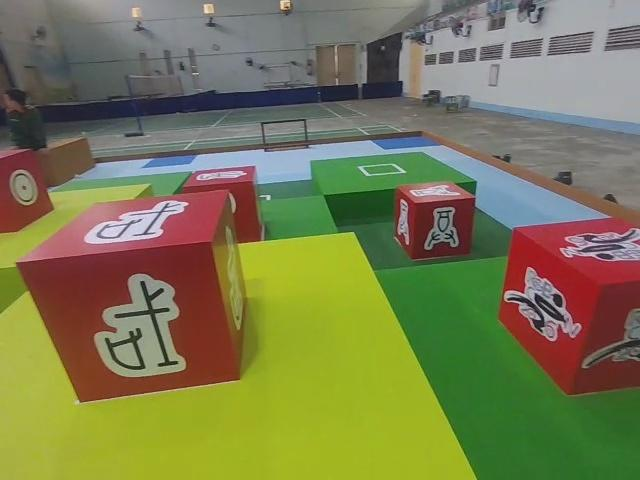R1: (495, 212, 640, 399)
R2 Real: (11, 188, 249, 406), (391, 177, 480, 264), (0, 144, 56, 236)
